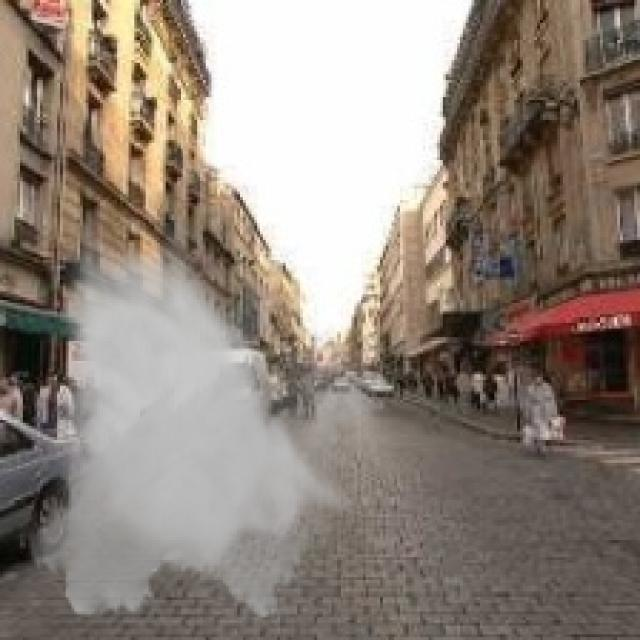smoke: (17, 223, 394, 628)
